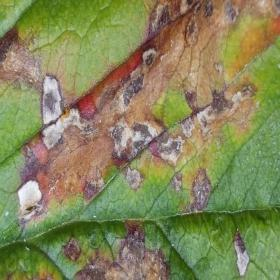Angular Leafspot: (0, 0, 279, 279)
